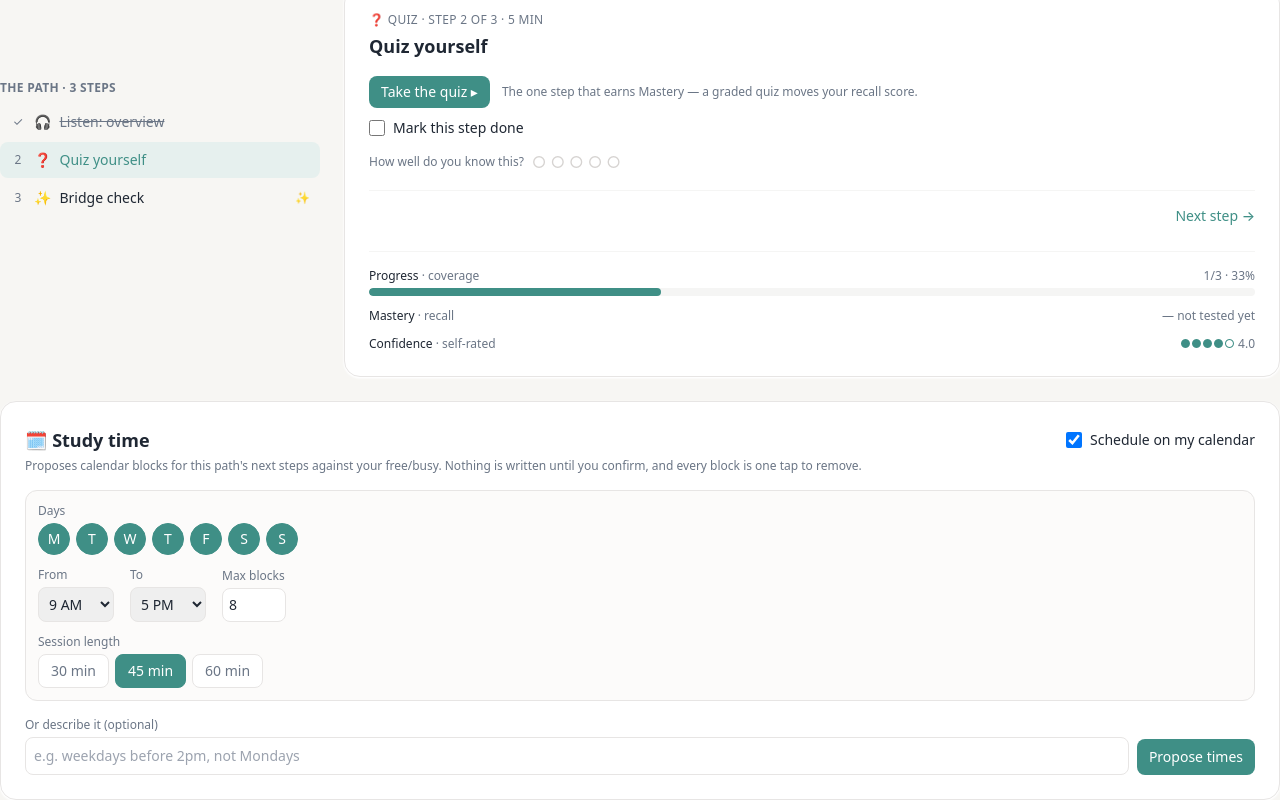
PathPlayer — Study Scheduler controls (v1) › sends a free-text note (alongside the controls) and shows the reply
(page scrolled)
Type "weekdays before 2pm" into the field named "Scheduling preference" at (577, 756), box [25, 737, 1129, 775]
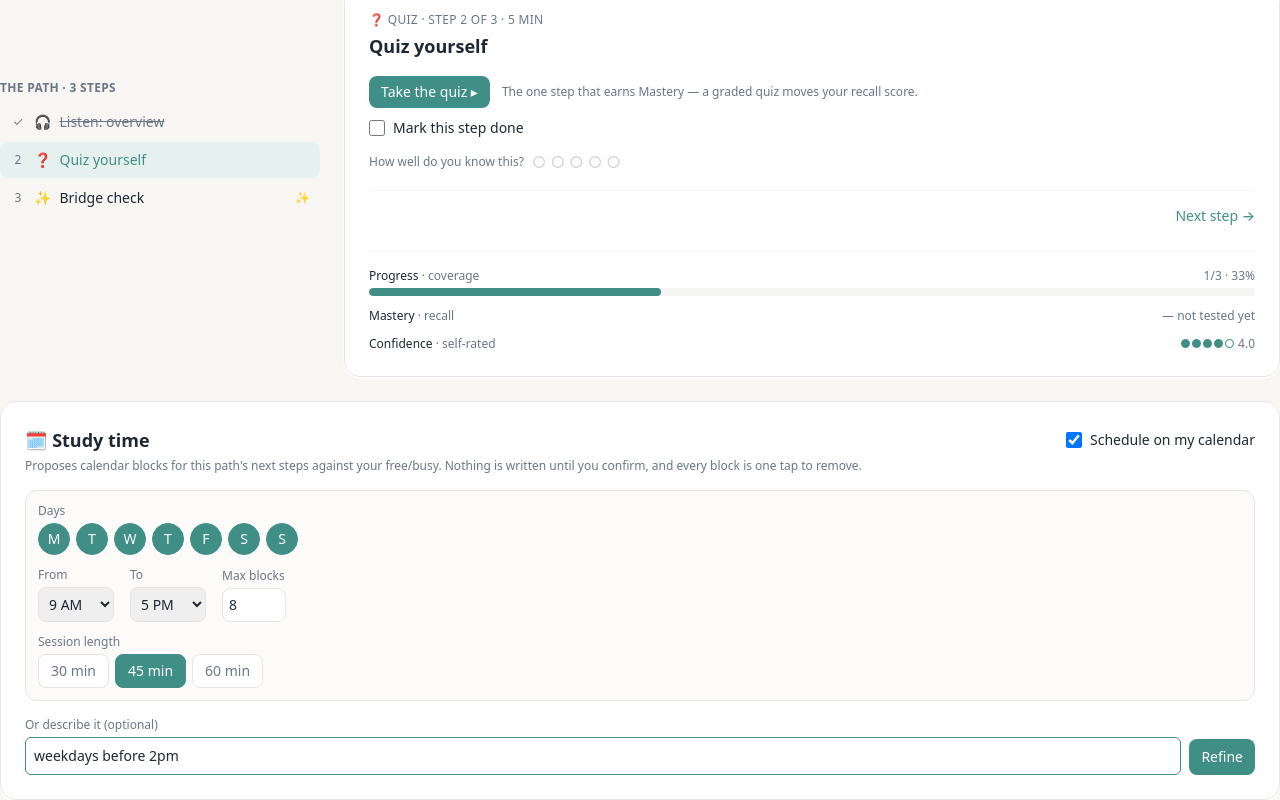
With a note present the action button becomes "Refine".
Click the button "Refine" at (1222, 757), box [1189, 739, 1255, 775]
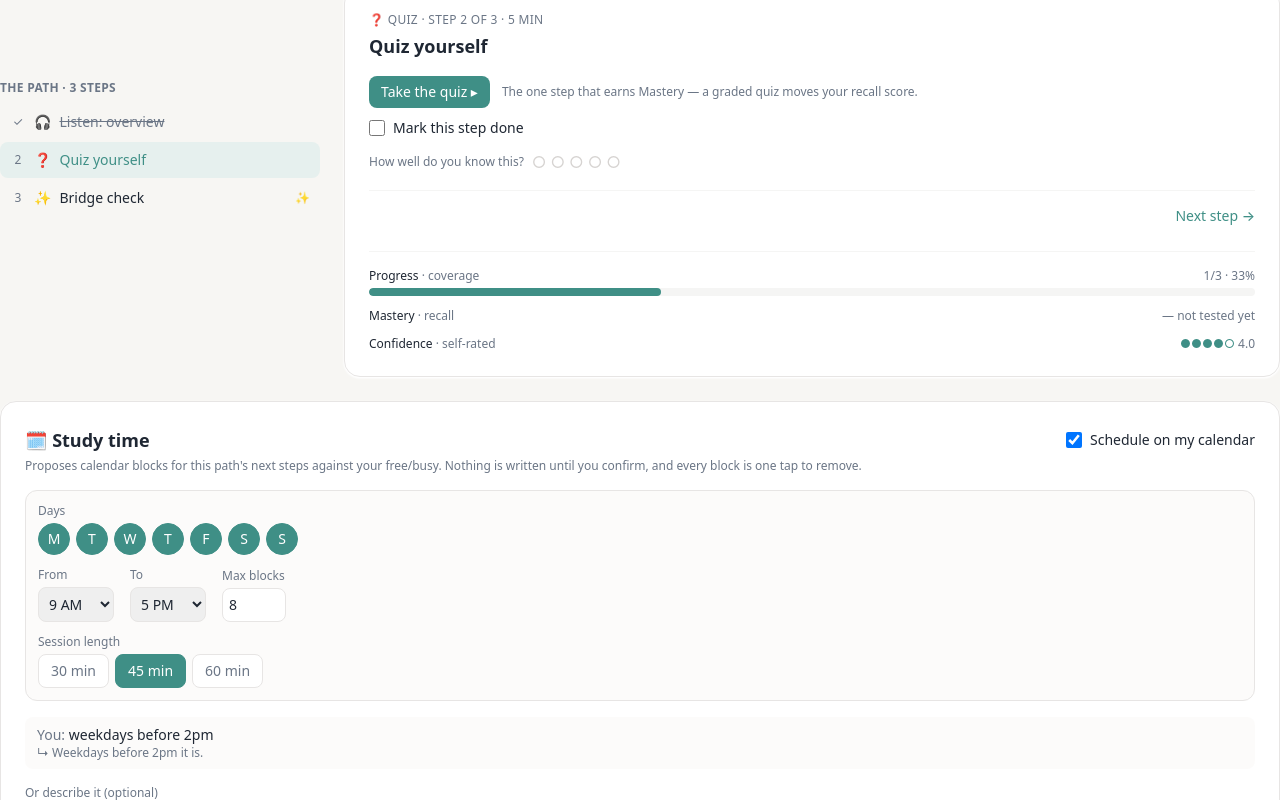
Result: the text "↳ Weekdays before 2pm it is." is shown at [37, 744, 203, 761]
